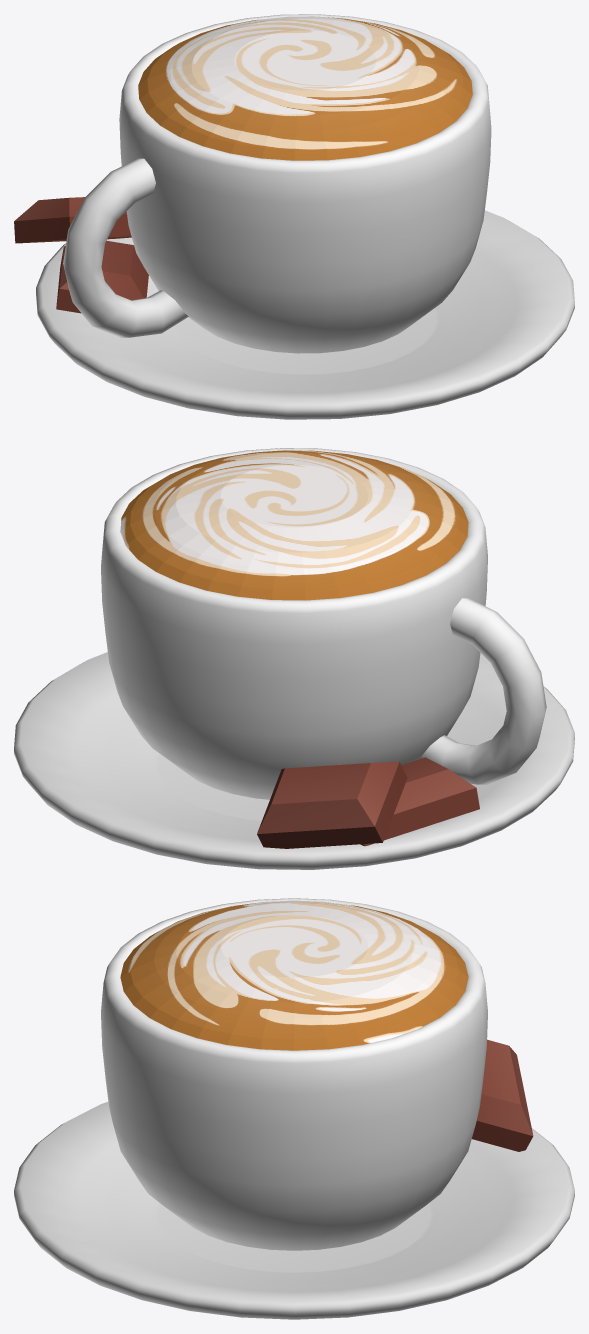
File: Coffee Cup.fbx
3 views of the same model, one above another, from view 1: azimuth 30°, elevation 25°; view 2: azimuth 150°, elevation 25°; view 3: azimuth 270°, elevation 25° (orthographic). The views are drawn at different scales.
Parts seen in each view (by area): view 1: Coffee Cup; view 2: Coffee Cup; view 3: Coffee Cup.
Part boxes in pixels (box(x1,y1,x2,y2)): Coffee Cup: box(14, 14, 574, 419); Coffee Cup: box(14, 448, 574, 869); Coffee Cup: box(14, 898, 574, 1319).
Size of the model in its own units: 15.19 by 8.59 by 14.98.
